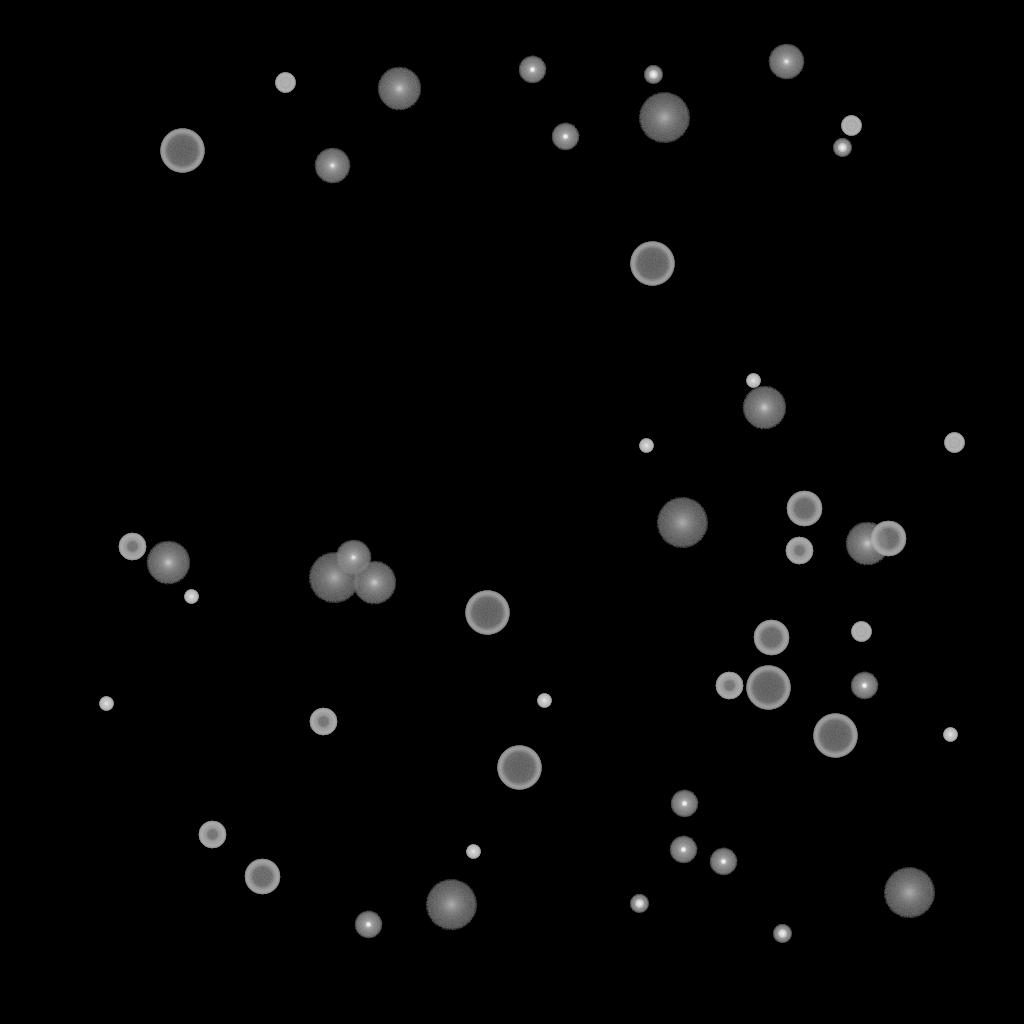depth:-10: (669, 836, 697, 864), (670, 790, 698, 818), (354, 911, 382, 939), (551, 123, 579, 151), (850, 672, 878, 700), (709, 848, 737, 876), (518, 56, 546, 84)
depth:-20: (630, 895, 648, 913), (644, 66, 662, 84), (833, 139, 851, 157), (773, 925, 791, 943)
depth:-30: (746, 374, 760, 388), (466, 845, 480, 859), (537, 694, 551, 708), (99, 697, 113, 711), (184, 590, 198, 604), (639, 439, 653, 453), (943, 728, 957, 742)
depth:-40: (275, 73, 295, 93), (851, 622, 871, 642), (944, 433, 964, 453), (841, 116, 861, 136)
depth:-50: (198, 821, 226, 849), (785, 537, 813, 565), (118, 533, 146, 561), (715, 672, 743, 700), (309, 708, 337, 736)
depth:-60: (786, 491, 822, 527), (753, 620, 789, 656), (244, 859, 280, 895), (870, 521, 906, 557)
depth:-70: (465, 591, 509, 635), (813, 714, 857, 758), (746, 666, 790, 710), (160, 129, 204, 173), (630, 242, 674, 286), (497, 746, 541, 790)
depth:0: (314, 148, 350, 184), (335, 540, 371, 576), (768, 44, 804, 80)
depth:10: (742, 386, 786, 430), (377, 67, 421, 111), (352, 561, 396, 605), (146, 541, 190, 585), (845, 522, 889, 566)
depth:20: (308, 553, 360, 603), (656, 498, 708, 548), (638, 93, 690, 143), (425, 880, 477, 930), (883, 868, 935, 918)
